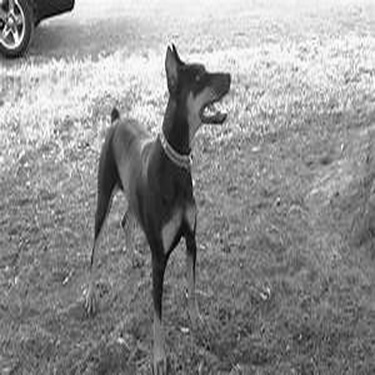dog: (78, 32, 235, 374)
